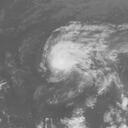cyclone: (41, 22, 118, 85)
